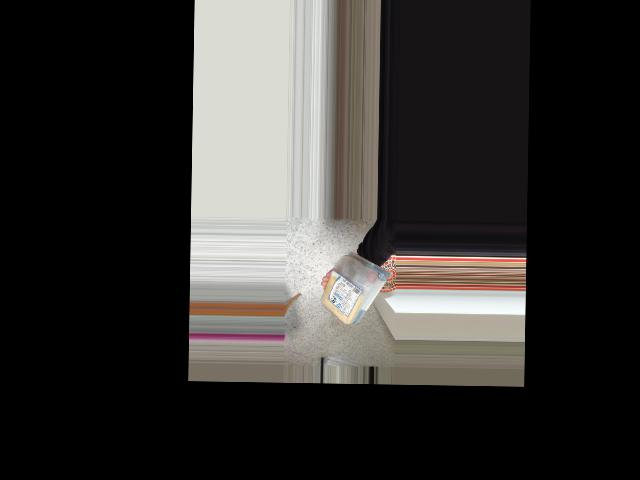cheese: (320, 252, 385, 329)
